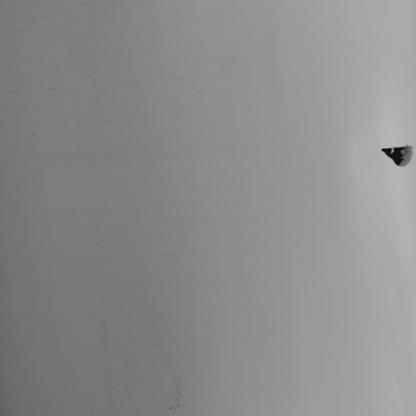kongdong: (374, 137, 413, 172)
